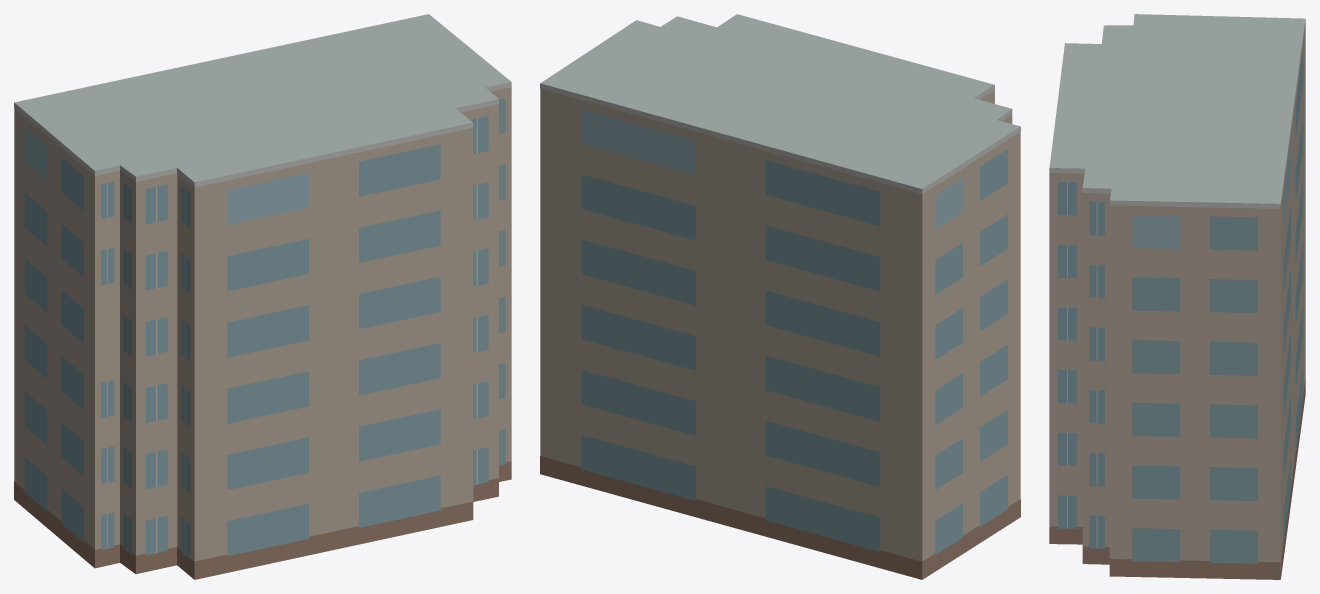
The model's file is survey-upis-32897746.glb.
3 views of the same model, side by side, from view 1: azimuth 30°, elevation 25°; view 2: azimuth 150°, elevation 25°; view 3: azimuth 270°, elevation 25° (orthographic). The views are drawn at different scales.
Visible parts, largest first — view 1: survey-upis-32897746.tmp; view 2: survey-upis-32897746.tmp; view 3: survey-upis-32897746.tmp.
Boxes of the visible parts, x1,y1,x2,y2 form: survey-upis-32897746.tmp: [14, 14, 511, 579]; survey-upis-32897746.tmp: [540, 14, 1020, 579]; survey-upis-32897746.tmp: [1049, 14, 1305, 579].
Size of the model in its own units: 19.83 by 18.3 by 11.31.
